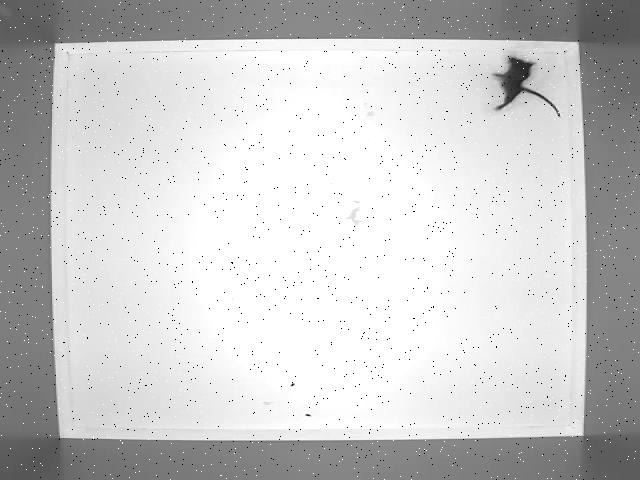Tikus: (489, 54, 564, 122)
